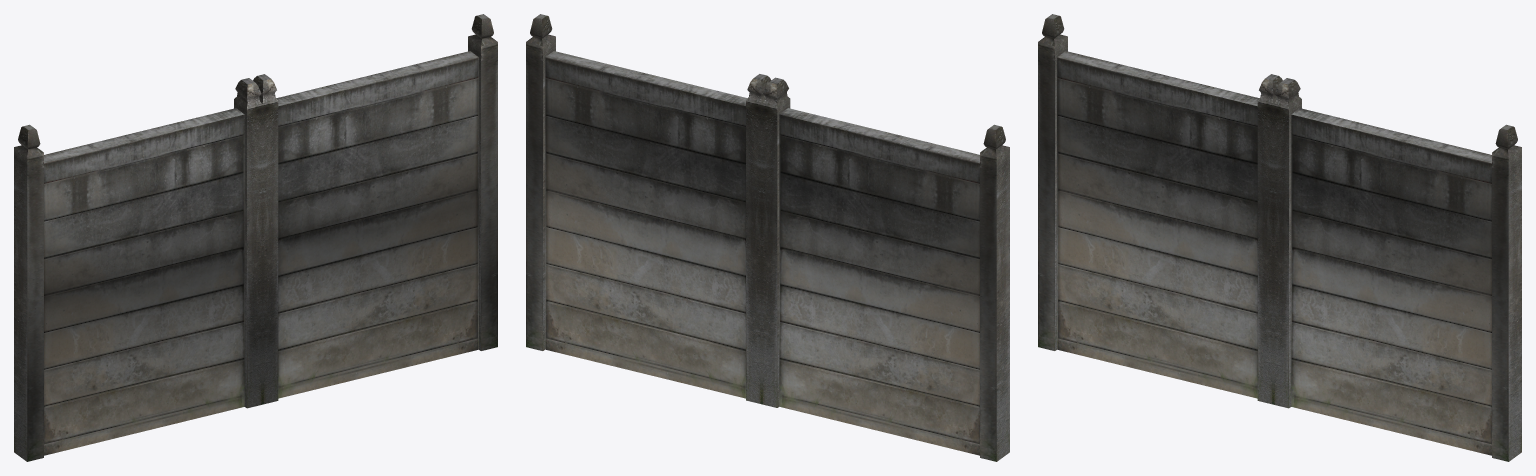
File: concrete_wall.obj
3 views of the same model, side by side, from view 1: azimuth 30°, elevation 25°; view 2: azimuth 150°, elevation 25°; view 3: azimuth 330°, elevation 25° (orthographic).
Visible parts, largest first — view 1: concrete_wall; view 2: concrete_wall; view 3: concrete_wall.
Part boxes in pixels (x1,y1,x2,y2): concrete_wall: (14,14,497,461); concrete_wall: (526,14,1009,461); concrete_wall: (1038,14,1521,461).
Size of the model in its own units: 197 by 131 by 9.53.
Materials: 1 (1 with a texture image).
